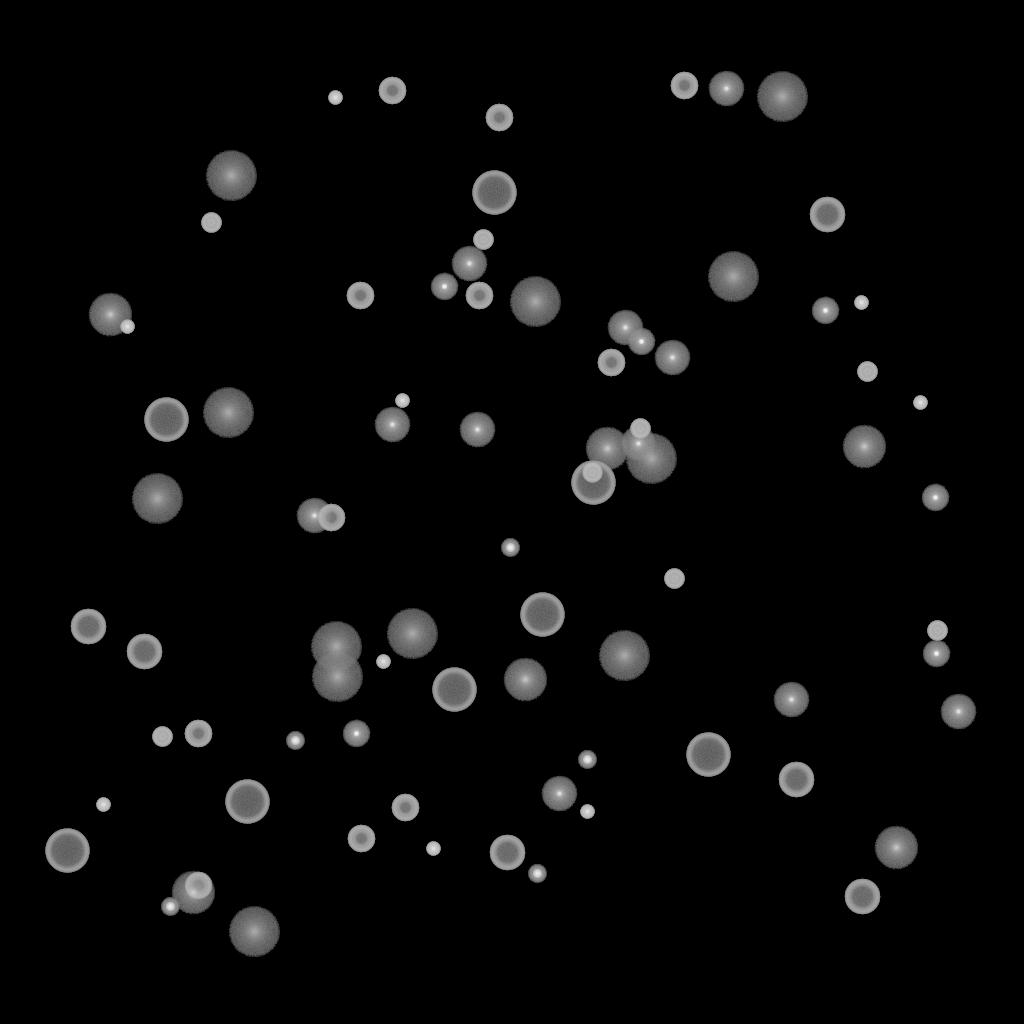depth:-10: (922, 640, 950, 668), (921, 484, 949, 512), (342, 720, 370, 748), (430, 273, 458, 301), (627, 328, 655, 356), (811, 297, 839, 325)
depth:-20: (528, 865, 546, 883), (501, 539, 519, 557), (161, 898, 179, 916), (286, 732, 304, 750), (578, 751, 596, 769)
depth:-30: (328, 91, 342, 105), (96, 798, 110, 812), (580, 805, 594, 819), (913, 396, 927, 410), (395, 394, 409, 408), (120, 320, 134, 334), (376, 655, 390, 669), (854, 296, 868, 310), (426, 842, 440, 856)
depth:-40: (664, 569, 684, 589), (630, 419, 650, 439), (927, 621, 947, 641), (201, 213, 221, 233), (473, 230, 493, 250), (857, 362, 877, 382), (582, 463, 602, 483), (152, 727, 172, 747)
depth:-50: (184, 872, 212, 900), (391, 794, 419, 822), (184, 720, 212, 748), (465, 282, 493, 310), (670, 72, 698, 100), (347, 825, 375, 853), (317, 504, 345, 532), (378, 77, 406, 105), (346, 282, 374, 310), (597, 349, 625, 377), (485, 104, 513, 132)
depth:-60: (809, 197, 845, 233), (489, 835, 525, 871), (70, 609, 106, 645), (844, 879, 880, 915), (778, 762, 814, 798), (126, 634, 162, 670)
depth:-70: (686, 733, 730, 777), (520, 593, 564, 637), (225, 780, 269, 824), (472, 171, 516, 215), (432, 668, 476, 712), (45, 829, 89, 873), (571, 461, 615, 505), (144, 398, 188, 442)
depth:0: (620, 426, 656, 462), (459, 412, 495, 448), (541, 776, 577, 812), (296, 498, 332, 534), (451, 246, 487, 282), (708, 71, 744, 107), (940, 694, 976, 730), (654, 340, 690, 376), (374, 407, 410, 443), (773, 682, 809, 718), (607, 310, 643, 346)
depth:10: (503, 658, 547, 702), (842, 425, 886, 469), (171, 871, 215, 915), (874, 826, 918, 870), (88, 293, 132, 337), (585, 427, 629, 471)
depth:20: (707, 252, 759, 302), (598, 631, 650, 681), (756, 72, 808, 122), (202, 388, 254, 438), (625, 434, 677, 484), (131, 474, 183, 524), (205, 151, 257, 201), (310, 622, 362, 672), (228, 907, 280, 957), (386, 609, 438, 659), (311, 652, 363, 702), (509, 277, 561, 327)
